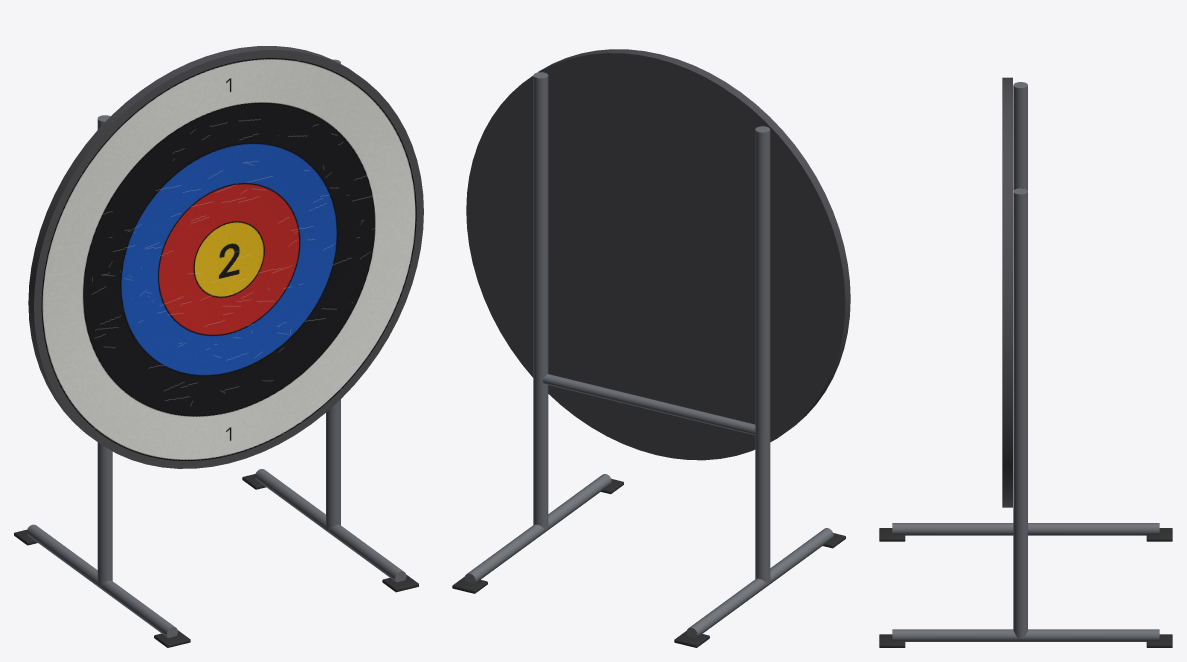
The model's file is TargetPanel.fbx.
The picture shows the model from 3 angles, left to right: view 1: azimuth 30°, elevation 25°; view 2: azimuth 150°, elevation 25°; view 3: azimuth 270°, elevation 25°; orthographic projection. The views are drawn at different scales.
Visible parts, largest first — view 1: Target; view 2: Target; view 3: Target.
Part boxes in pixels (<box>): Target: <box>14,46,423,647</box>; Target: <box>452,49,850,647</box>; Target: <box>879,77,1172,647</box>.
Size of the model in its own units: 1.64 by 2.07 by 1.12.
Materials: 4 (1 with a texture image).
